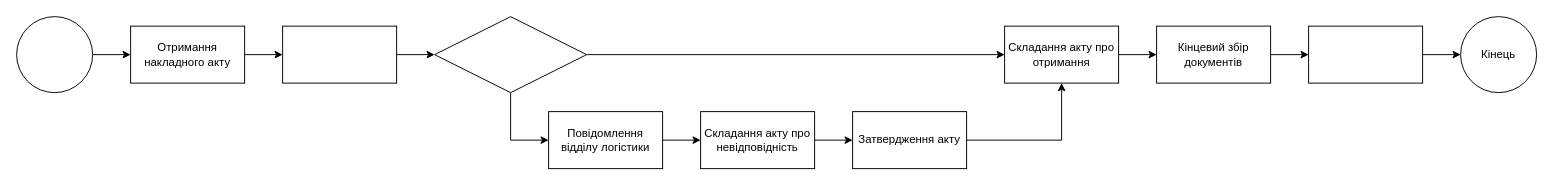
The diagram is 1553 pixels wide and 185 high, and some of its shapes have lost their labels. The shapes that lost their labels are listed below. From the top down, each one's centre as x and y in pixels, then its label:
At [54,54]: "Початок".
At [339,54]: "Звірення заявлених об'ємів з наявними".
At [510,54]: "Чи співпадають заявлені об'єми з фактичними?".
At [1365,54]: "Передача на склад".
